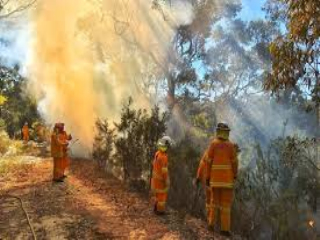smoke: (22, 3, 117, 149)
